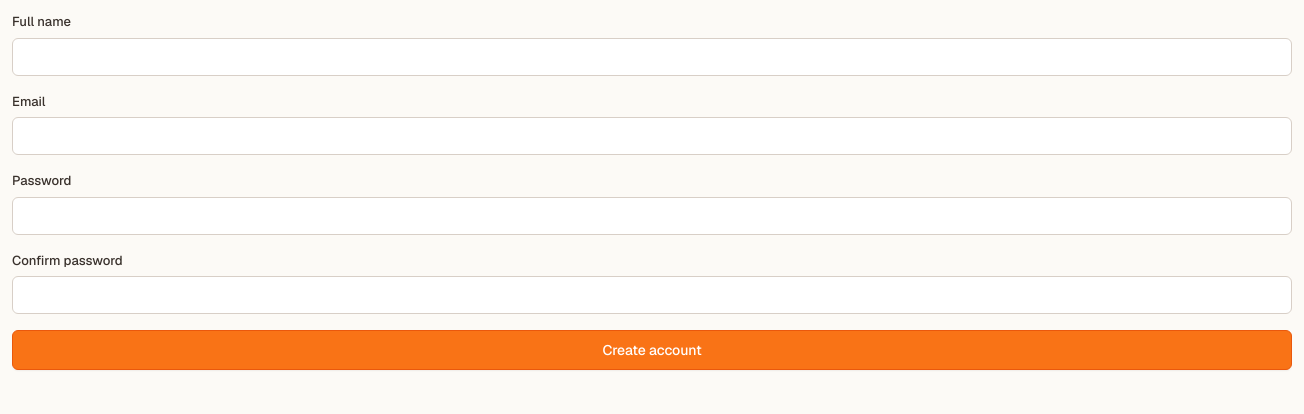
Scenario: RegisterForm › shows a clear inline error for a duplicate email
Type "Someone Else" into the field labelled "Full name" at (652, 56), box [12, 38, 1292, 76]
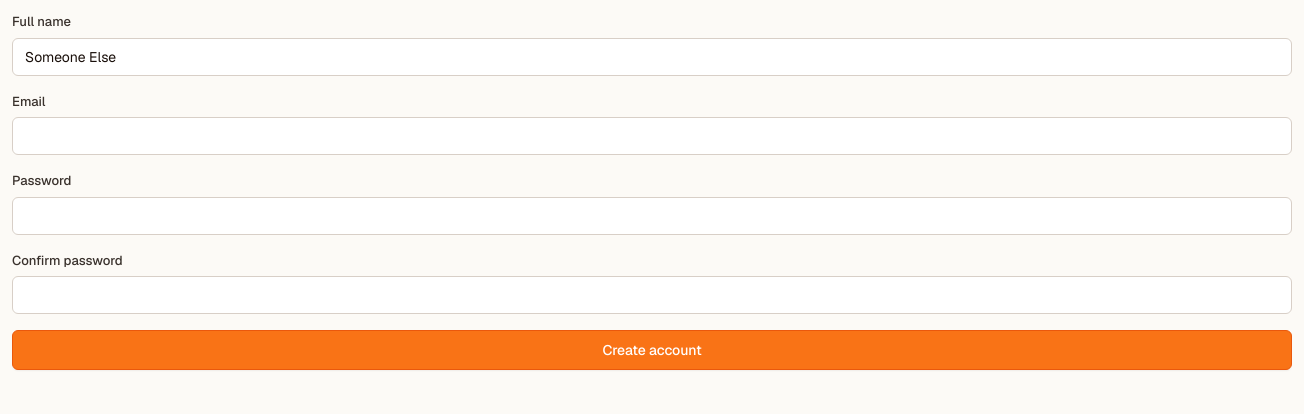
Type "existing@example.com" into the field labelled "Email" at (652, 136), box [12, 117, 1292, 155]
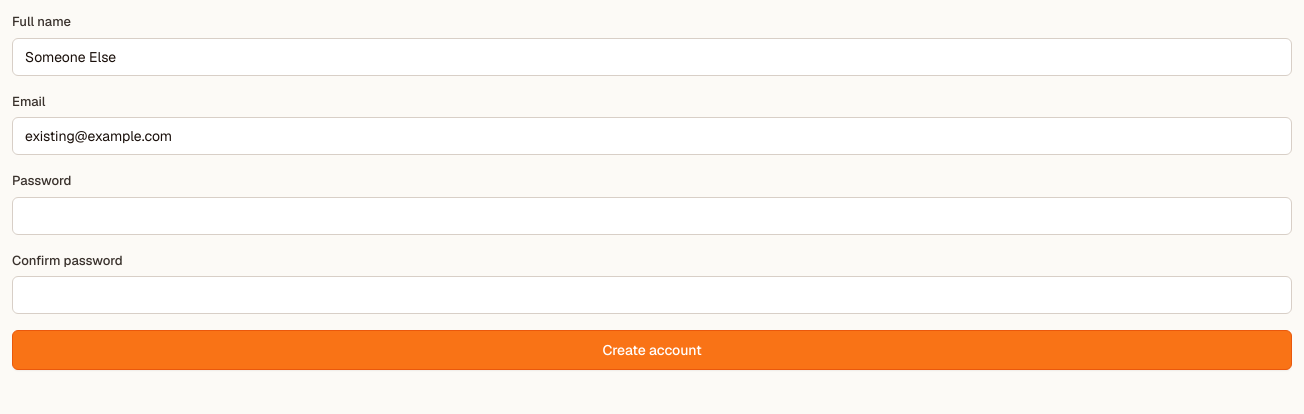
Type "ValidPass123" into the password field labelled "Password" at (652, 216), box [12, 196, 1292, 234]
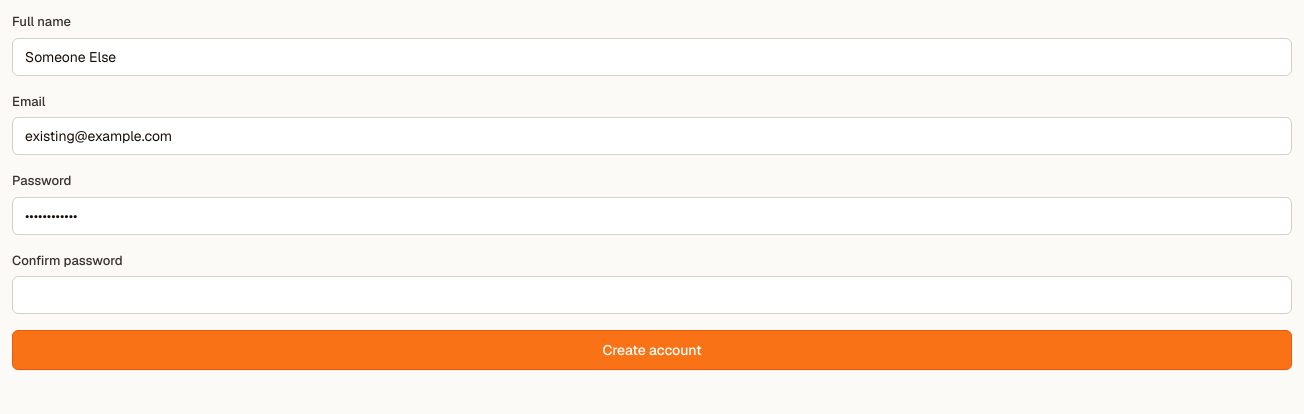
Type "ValidPass123" into the password field labelled "Confirm password" at (652, 295), box [12, 276, 1292, 314]
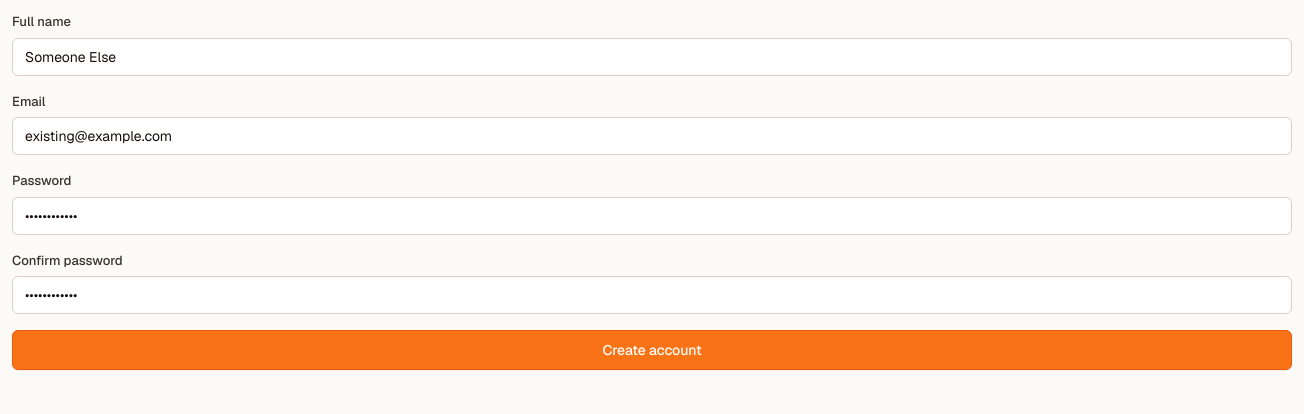
Click the button "Create account" at (652, 350), box [12, 330, 1292, 370]
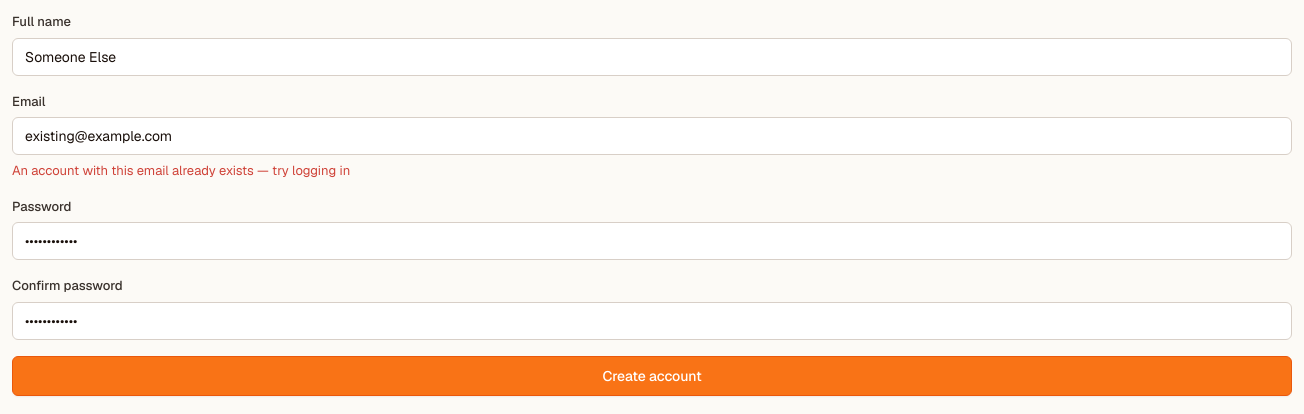
Expected: the text "An account with this email already exists — try logging in" is shown, [12, 162, 350, 179]
